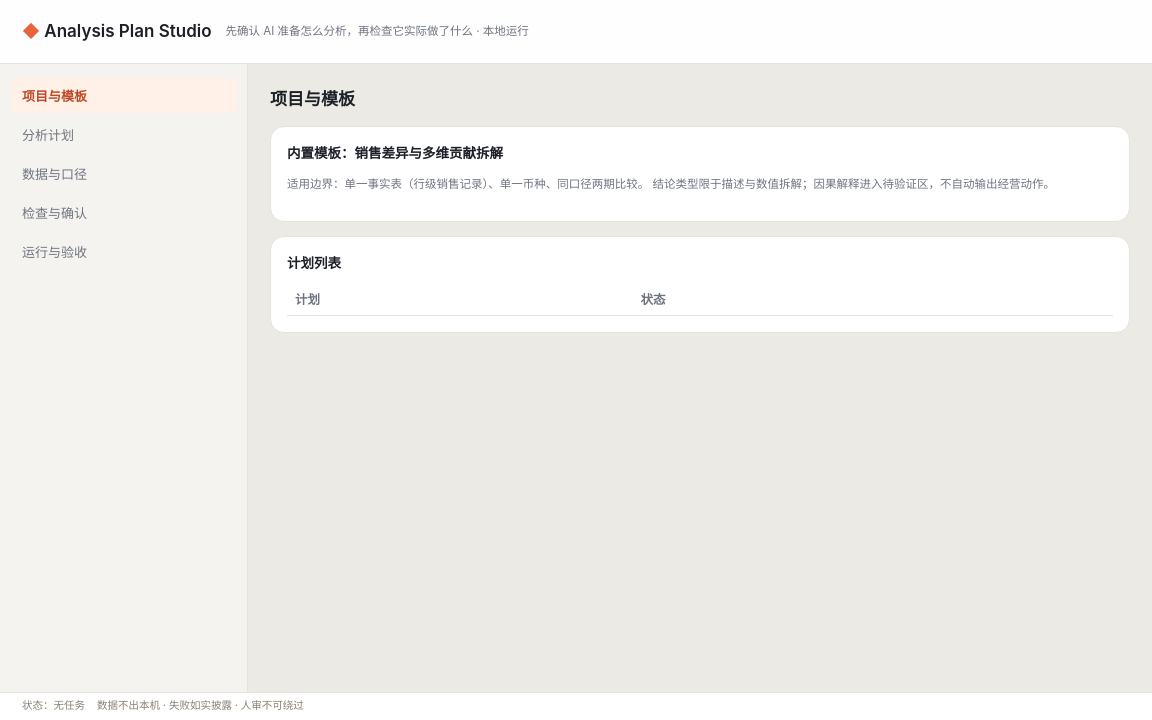
Test: Analysis Plan Studio UI 冒烟 › 无任务时数据页显示引导而非空白
Click the button "数据与口径": click(124, 174) [10,156,237,191]
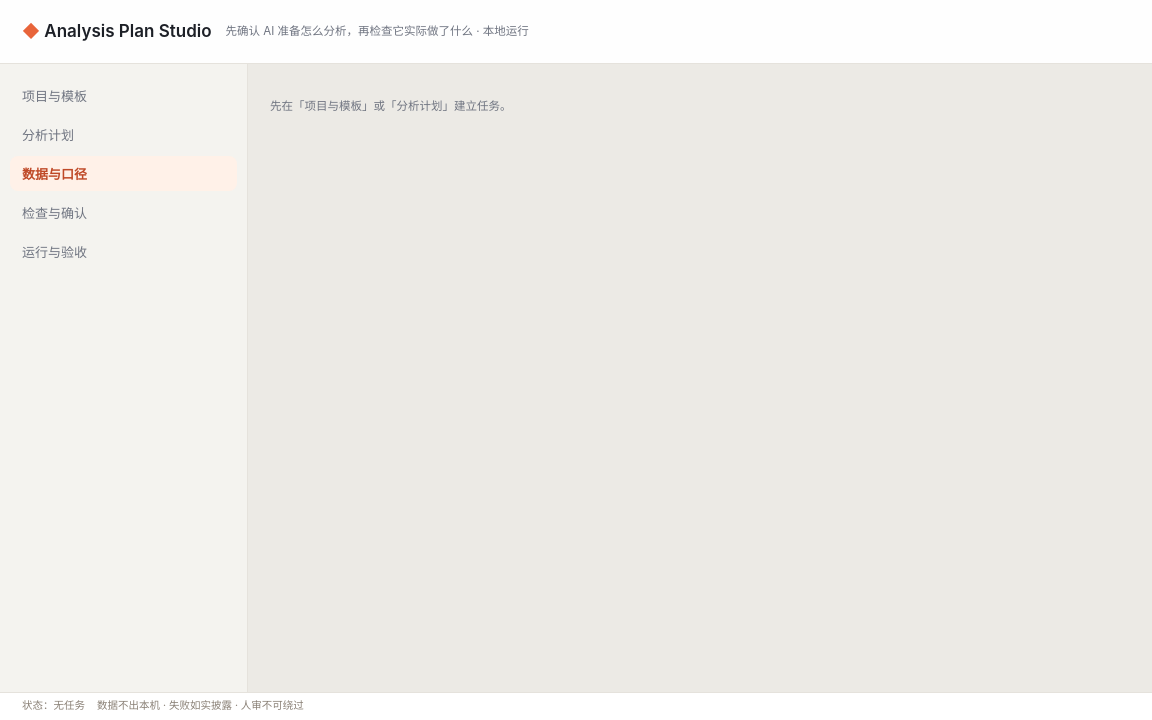
Result: the text "先在「项目与模板」或「分析计划」建立任务。" is shown at [270,98,512,112]
